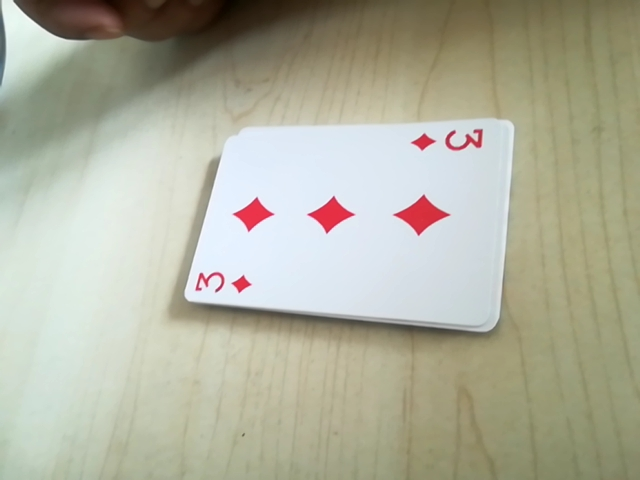fk 3: (403, 121, 494, 162), (187, 261, 257, 300)
